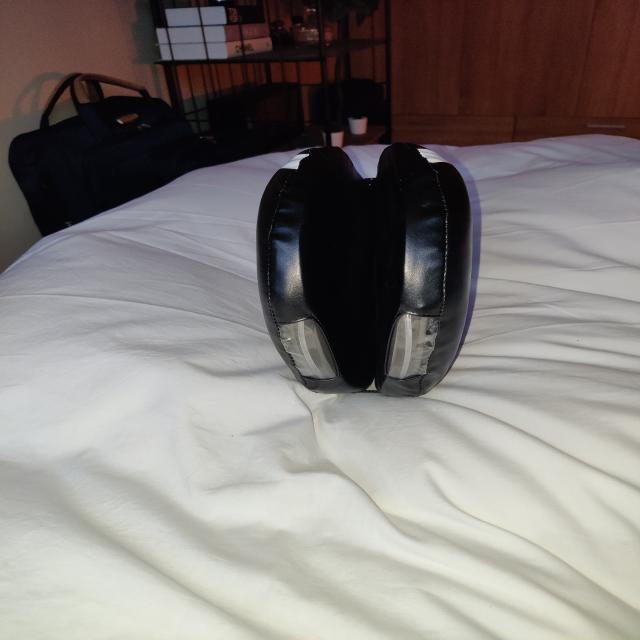paddle: (254, 140, 476, 400)
